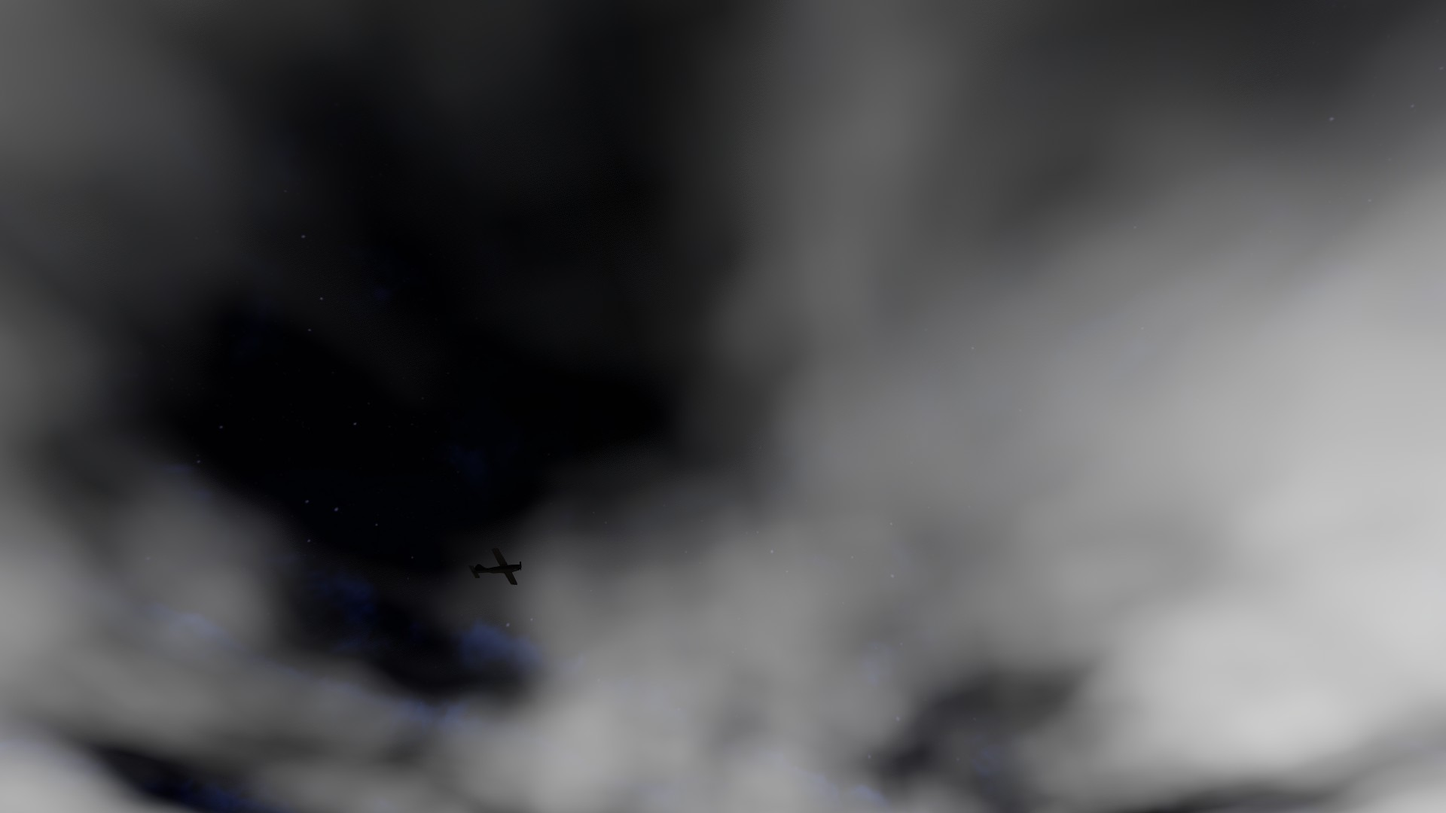drone_other: (468, 548, 522, 585)
